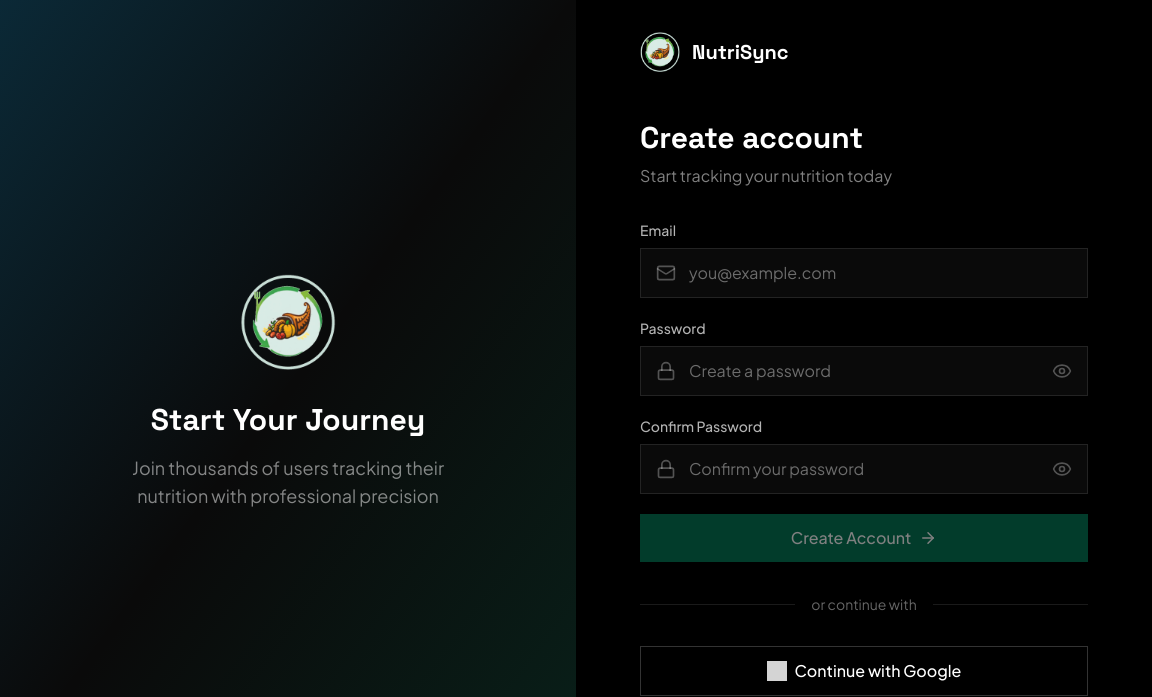
Test: Register › displays error on registration failure
The image size is (1152, 697).
In the field with placeholder "you@example.com": [864, 273] box left=640, top=248, right=1088, bottom=298, type "test@example.com"
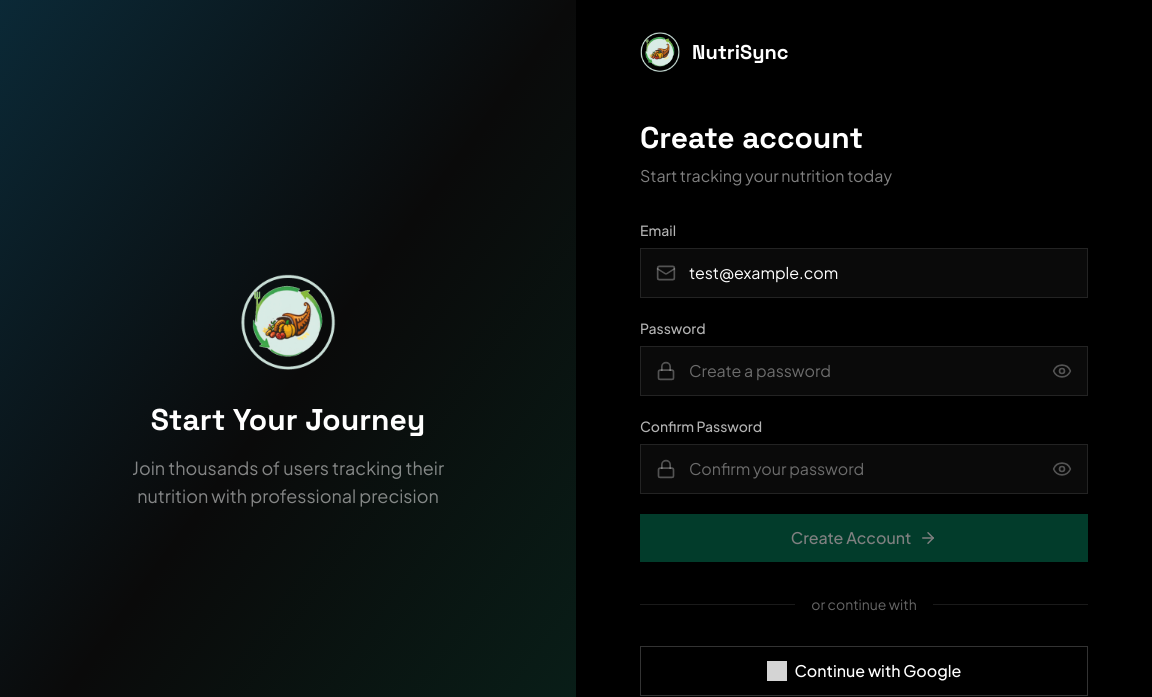
In the password field with placeholder "Create a password": [864, 371] box left=640, top=346, right=1088, bottom=396, type "ValidPass123!"
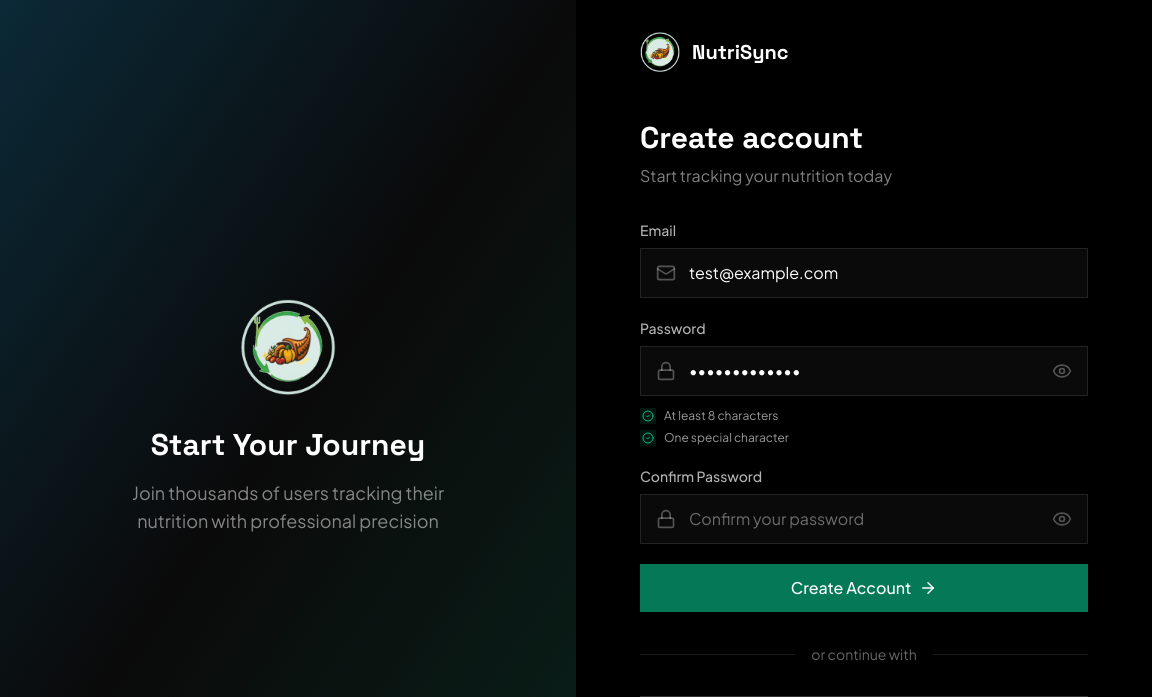
In the password field with placeholder "Confirm your password": [864, 519] box left=640, top=494, right=1088, bottom=544, type "ValidPass123!"
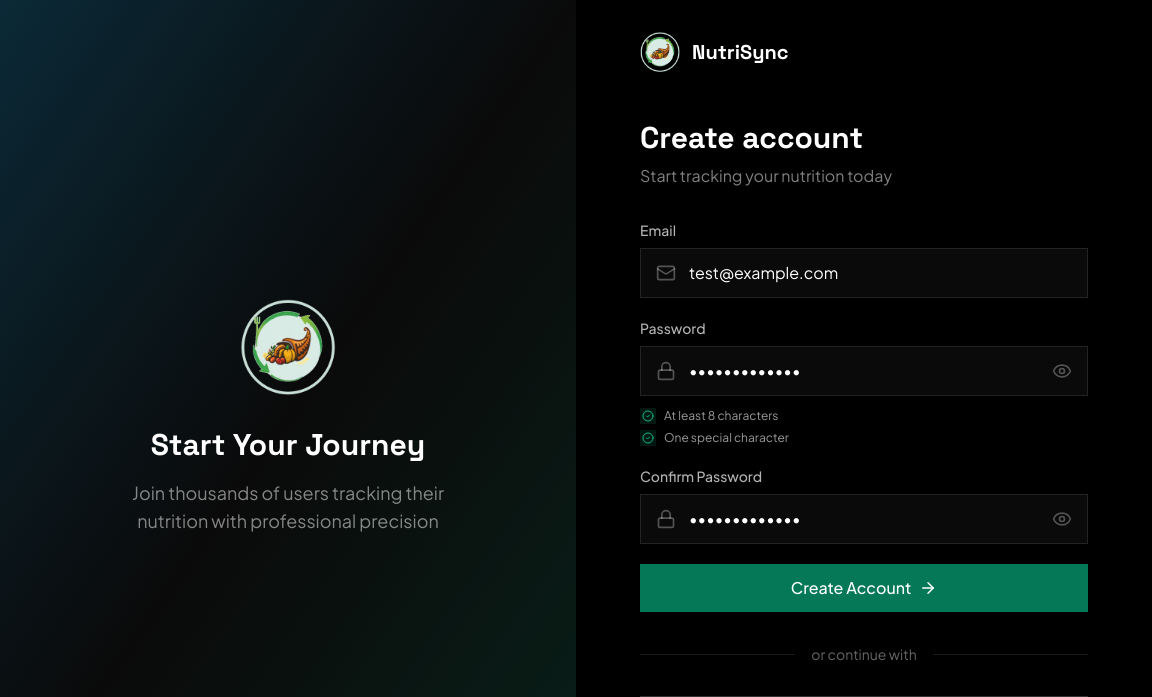
Click the button "Create Account": [864, 588] box left=640, top=564, right=1088, bottom=612
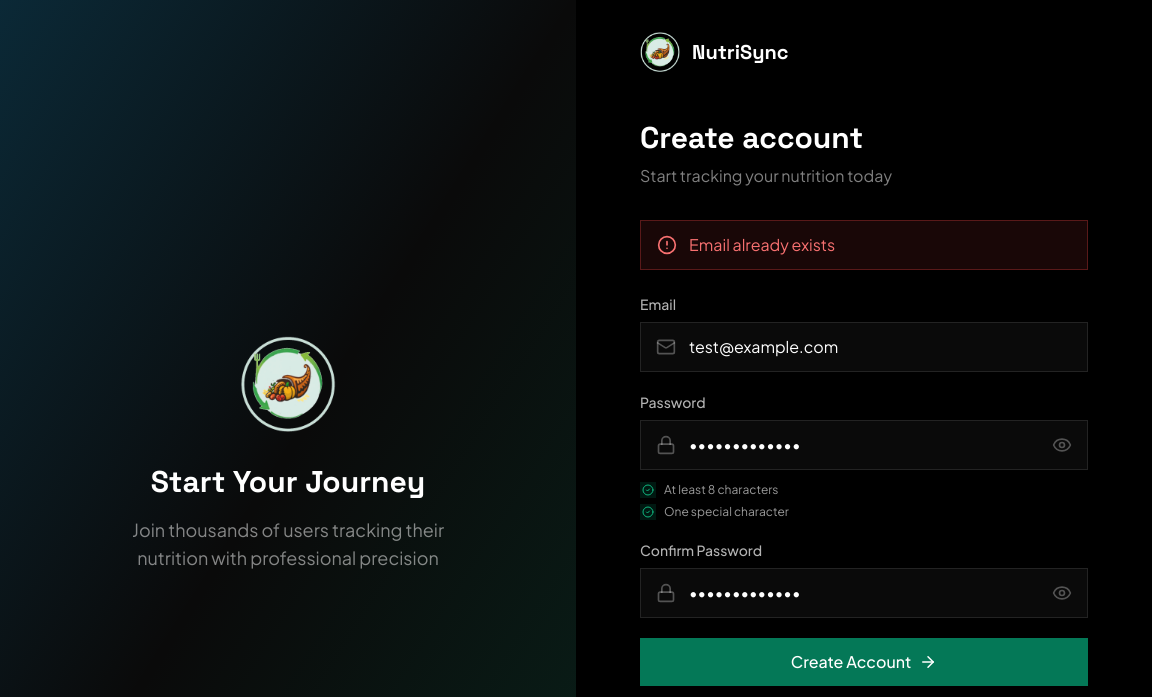
Check: the text "Email already exists" is shown, box left=689, top=234, right=835, bottom=255
